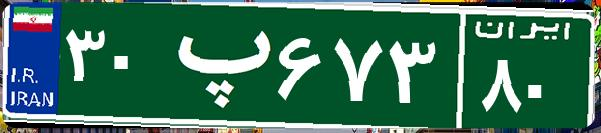0: (110, 28, 158, 105), (525, 38, 570, 115)
3: (385, 28, 445, 110), (57, 26, 110, 107)
6: (273, 28, 330, 110)
7: (330, 28, 385, 110)
8: (475, 38, 525, 113)
پ: (158, 15, 273, 115)
